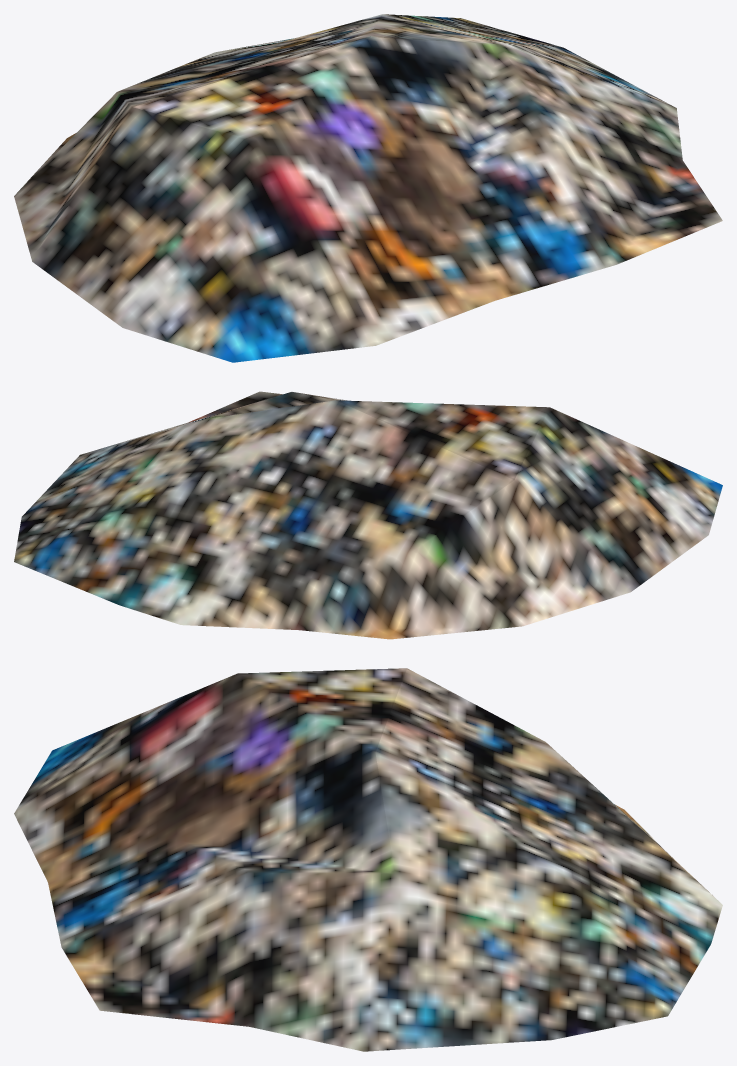
The model's file is piletrash.glb.
3 views of the same model, one above another, from view 1: azimuth 30°, elevation 25°; view 2: azimuth 150°, elevation 25°; view 3: azimuth 270°, elevation 25° (orthographic). The views are drawn at different scales.
Visible parts, largest first — view 1: PileTrash; view 2: PileTrash; view 3: PileTrash.
Boxes of the visible parts, x1=… form: PileTrash: x1=14, y1=14, x2=722, y2=362; PileTrash: x1=14, y1=391, x2=722, y2=639; PileTrash: x1=14, y1=668, x2=722, y2=1051.
Bounding box in the file's own units: 1.84 × 0.3952 × 1.69.
1 material, 1 textured.
